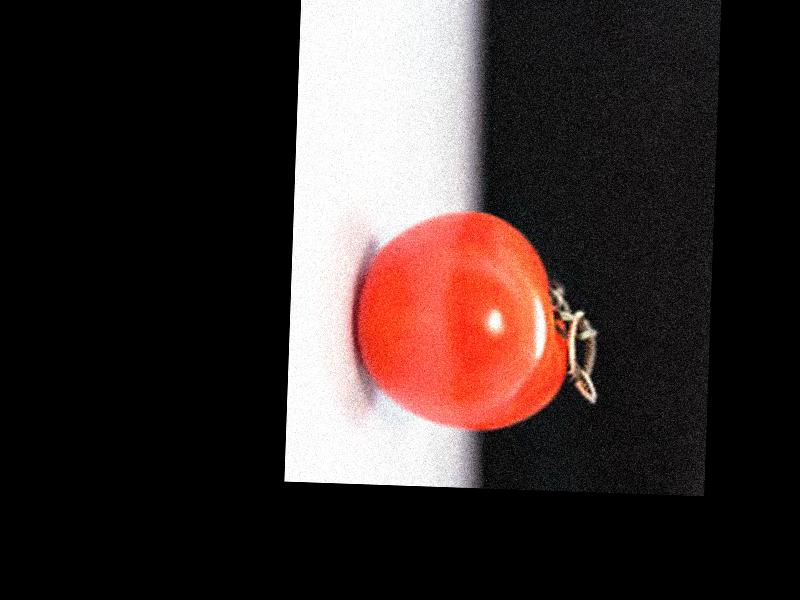Tomato: (352, 206, 573, 433)
